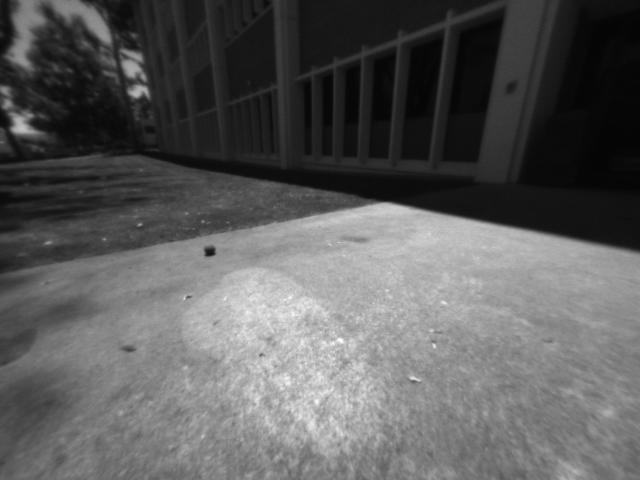dogtoy: (199, 239, 222, 262)
